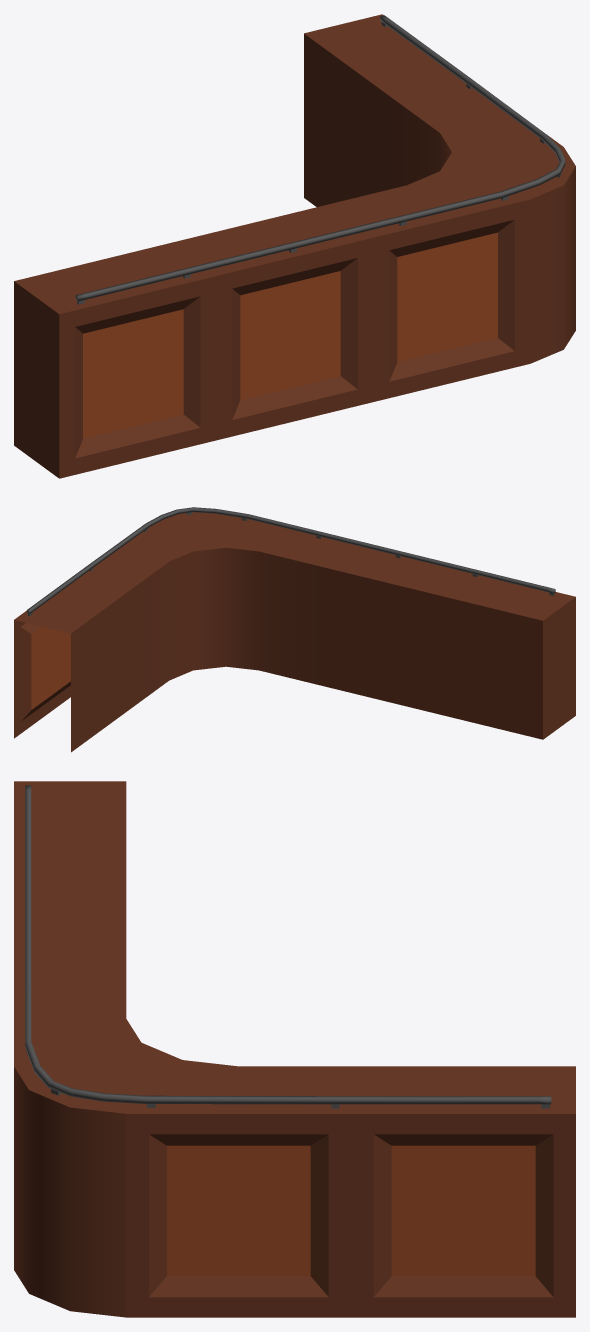
File: Bar.fbx
The picture shows the model from 3 angles, top to bottom: view 1: azimuth 30°, elevation 25°; view 2: azimuth 150°, elevation 25°; view 3: azimuth 270°, elevation 25°; orthographic projection. The views are drawn at different scales.
Visible parts, largest first — view 1: Plane.008; view 2: Plane.008; view 3: Plane.008.
Part boxes in pixels (x1,y1,x2,y2): Plane.008: (14, 14, 575, 478); Plane.008: (14, 507, 575, 752); Plane.008: (14, 781, 575, 1317).
Size of the model in its own units: 3.5 by 1.05 by 2.5.
